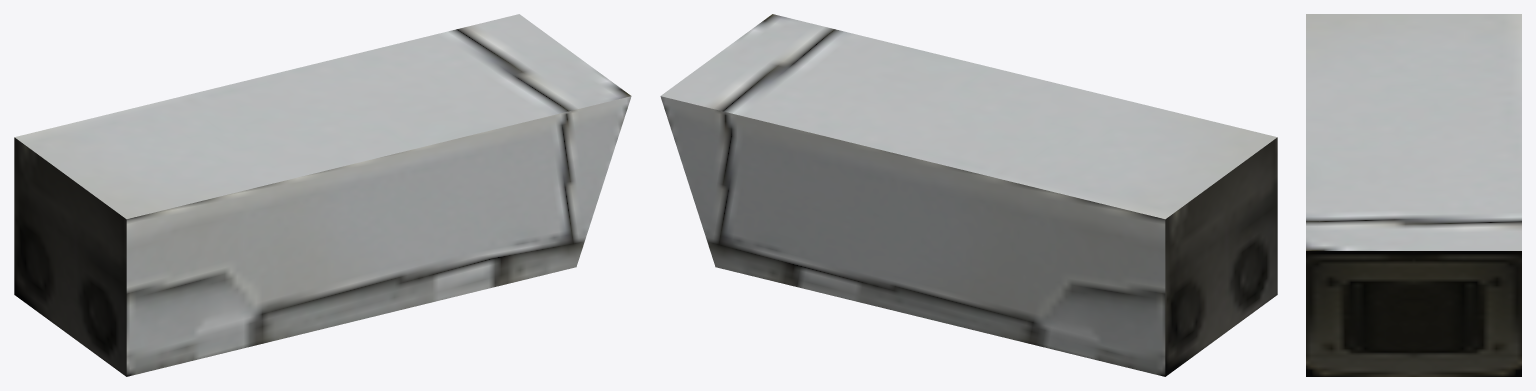
The model's file is SM_SYD_SecurityCamera01.fbx.
The picture shows the model from 3 angles, left to right: view 1: azimuth 30°, elevation 25°; view 2: azimuth 150°, elevation 25°; view 3: azimuth 270°, elevation 25°; orthographic projection. The views are drawn at different scales.
Parts seen in each view (by area): view 1: SM_SYD_SecurityCamera01; view 2: SM_SYD_SecurityCamera01; view 3: SM_SYD_SecurityCamera01.
Boxes of the visible parts, x1=… form: SM_SYD_SecurityCamera01: x1=14, y1=14, x2=631, y2=376; SM_SYD_SecurityCamera01: x1=660, y1=14, x2=1277, y2=376; SM_SYD_SecurityCamera01: x1=1306, y1=14, x2=1521, y2=376.
Bounding box in the file's own units: 51.98 × 15.51 × 20.
